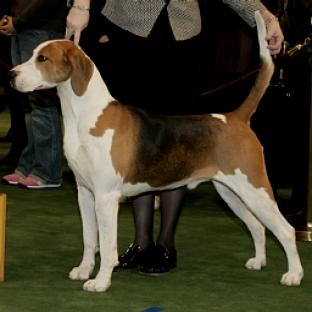Animal: (9, 11, 302, 291)
